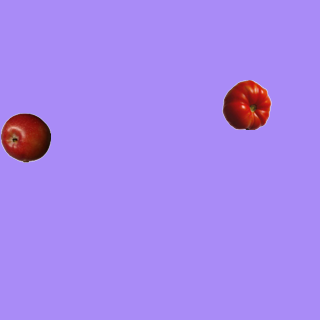Apple Braeburn: (0, 112, 50, 162)
Tomato 3: (221, 79, 271, 129)
